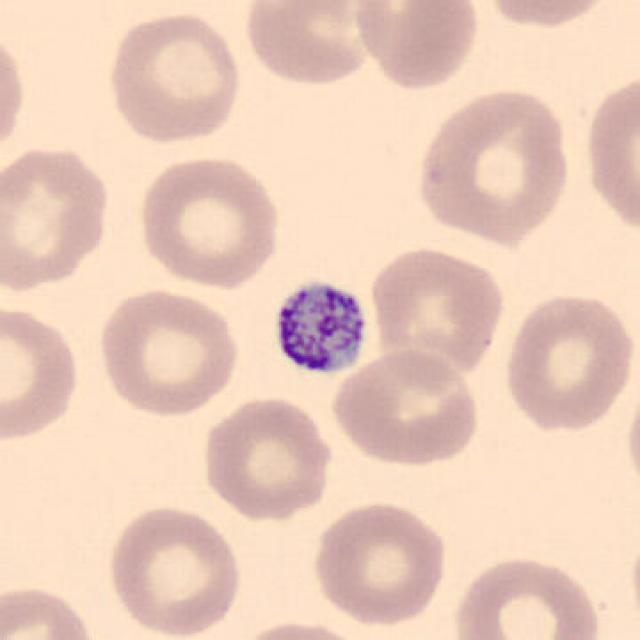Platelets: (268, 275, 372, 381)
RBC: (411, 83, 576, 248), (133, 152, 284, 291), (92, 284, 244, 419), (498, 288, 636, 436), (366, 242, 508, 384), (103, 7, 245, 148), (103, 501, 245, 638), (327, 346, 484, 469), (308, 497, 452, 628), (197, 392, 338, 524), (0, 139, 114, 296), (448, 552, 604, 640), (238, 0, 384, 90), (346, 0, 485, 93), (0, 299, 85, 444), (578, 65, 638, 245), (0, 580, 101, 640), (475, 0, 624, 32), (0, 23, 30, 167), (226, 617, 373, 640), (622, 376, 640, 504)
